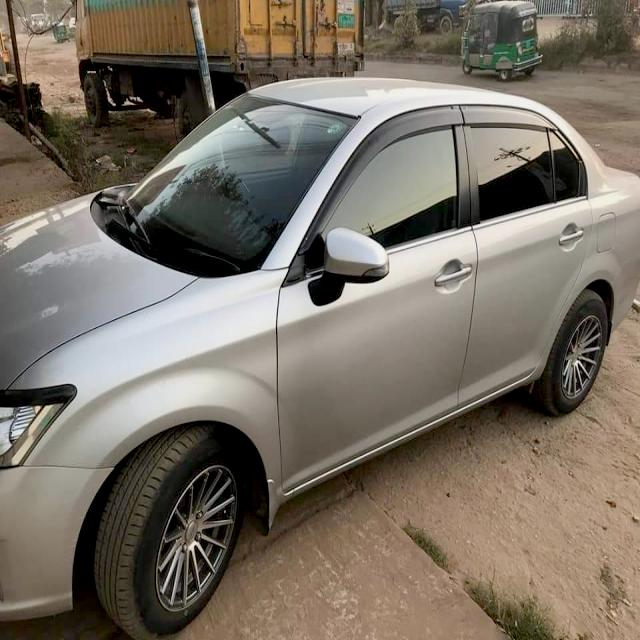silver: (0, 82, 640, 622)
